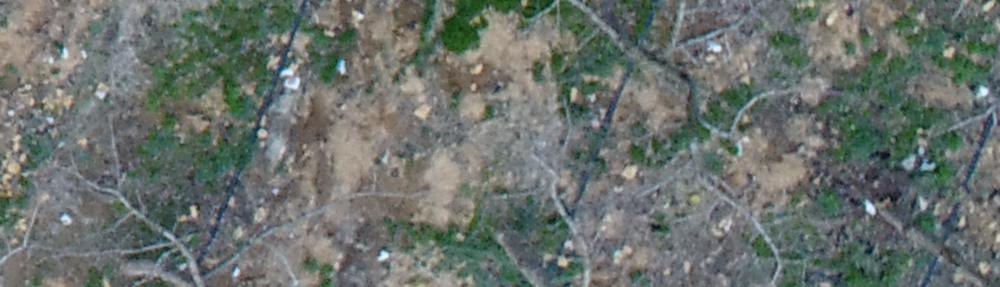apple: (364, 10, 825, 192)
